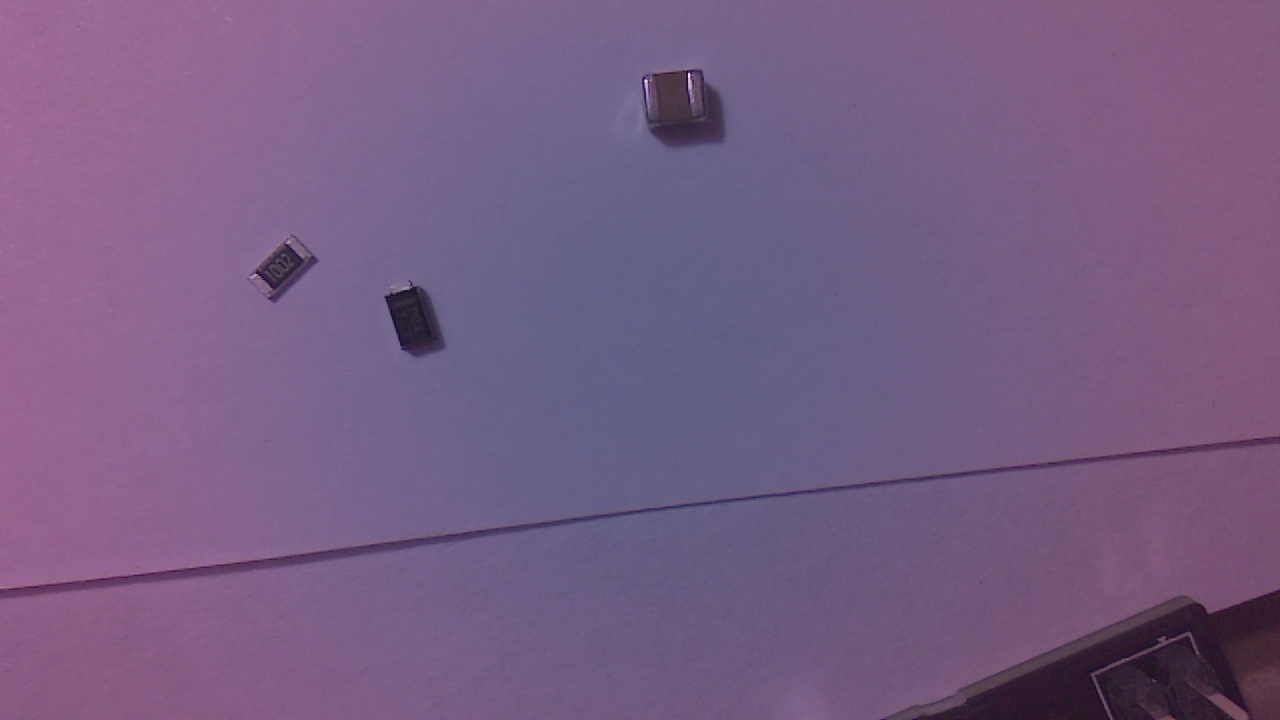Condensator: (643, 73, 715, 142)
Diode: (386, 282, 449, 361)
Resistor: (254, 235, 320, 308)
